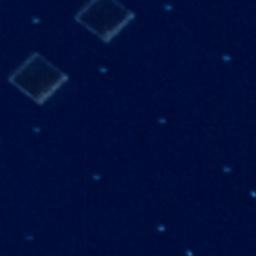square_solid: (5, 50, 72, 109), (71, 1, 139, 45)
